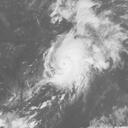cyclone: (43, 33, 93, 89)
